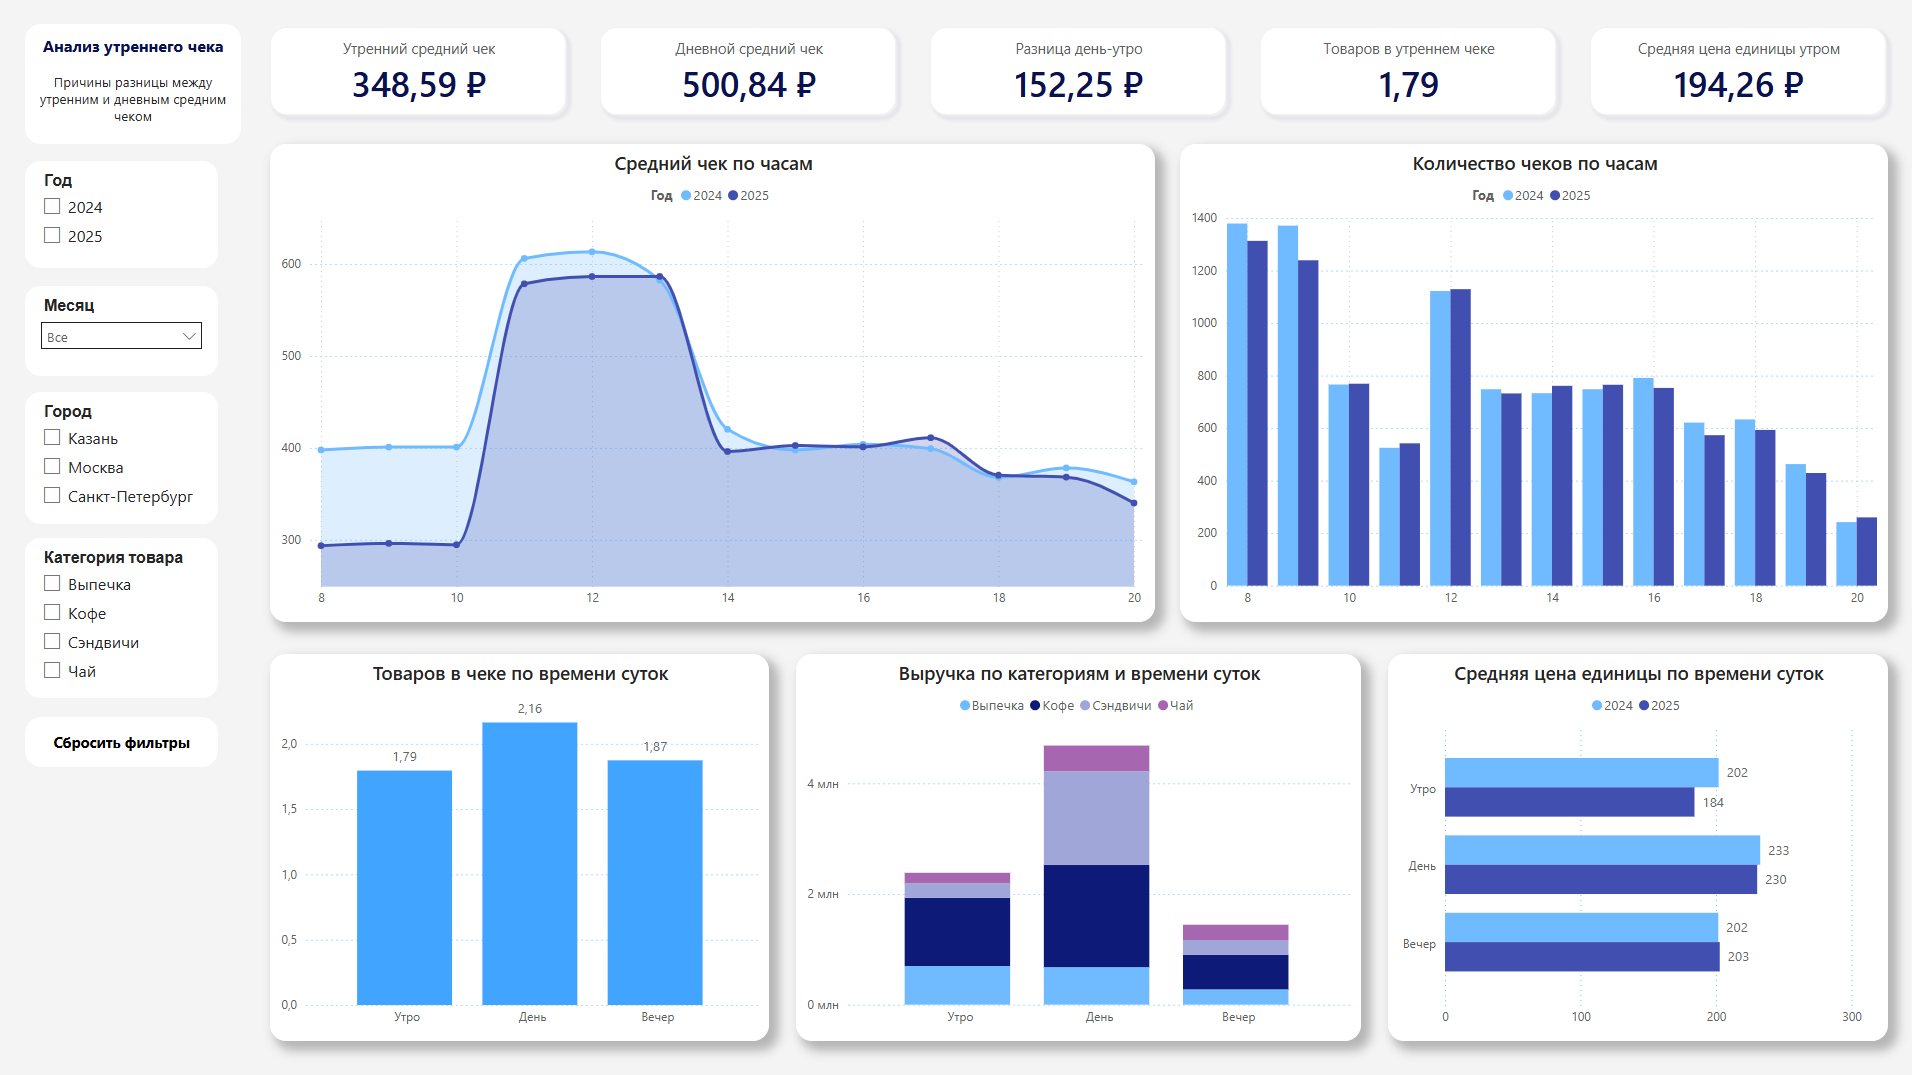

Layout of this report page (visuals, bound fields, positions):
{"tool":"powerbi","page":{"name":"Анализ утреннего чека","canvas":[1920,1080],"ordinal":1},"visuals":[{"type":"cardVisual","fields":{"Data":["coffee_sales.Утренний средний чек KPI","coffee_sales.Дневной средний чек KPI","coffee_sales.Разница день-утро KPI","coffee_sales.Товаров в утреннем чеке","coffee_sales.Средняя цена единицы утром KPI"]},"box":[243,0,1677,146],"z":0},{"type":"lineChart","title":"Средний чек по часам","fields":{"Category":["coffee_sales.Час"],"Series":["coffee_sales.Год"],"Y":["coffee_sales.Средний чек"]},"box":[272.2,145.6,884.4,478.9],"z":1000},{"type":"clusteredColumnChart","title":"Количество чеков по часам","fields":{"Category":["coffee_sales.Час"],"Y":["coffee_sales.Количество чеков"],"Series":["coffee_sales.Год"]},"box":[1182.2,145.6,707.8,478.9],"z":2000},{"type":"columnChart","title":"Товаров в чеке по времени суток","fields":{"Category":["coffee_sales.Время суток"],"Y":["coffee_sales.Товаров в чеке"]},"box":[272.2,655.6,498.9,387.8],"z":3000},{"type":"columnChart","title":"Выручка по категориям и времени суток","fields":{"Category":["coffee_sales.Время суток"],"Y":["coffee_sales.Выручка"],"Series":["coffee_products.category"]},"box":[797.8,655.6,565.6,387.8],"z":4000},{"type":"clusteredBarChart","title":"Средняя цена единицы по времени суток","fields":{"Category":["coffee_sales.Время суток"],"Y":["coffee_sales.Средняя цена единицы"],"Series":["coffee_sales.Год"]},"box":[1390,655.6,500,387.8],"z":5000},{"type":"slicer","fields":{"Values":["coffee_sales.Год"]},"box":[26.7,163.3,193.3,106.7],"z":6000},{"type":"slicer","fields":{"Values":["coffee_sales.Месяц"]},"box":[26.7,287.8,193.3,90],"z":7000},{"type":"slicer","fields":{"Values":["coffee_shops.city"]},"box":[26.7,394.4,193.3,131.1],"z":8000},{"type":"slicer","fields":{"Values":["coffee_products.category"]},"box":[26.7,540,193.3,160],"z":9000},{"type":"actionButton","box":[26.7,718.9,193.3,50],"z":10000},{"type":"textbox","box":[26.7,25.6,216.7,120],"z":11000}]}

Visuals, with their boxes in screenshot pixels (x1, y1, x2, y2), scaled from the page's 1920x1080 canvas onto the 1912x1075 screenshot:
cardVisual - coffee_sales.Утренний средний чек KPI x coffee_sales.Дневной средний чек KPI: <bbox>242, 0, 1911, 145</bbox>
"Средний чек по часам" lineChart: <bbox>271, 145, 1152, 622</bbox>
"Количество чеков по часам" clusteredColumnChart: <bbox>1177, 145, 1882, 622</bbox>
"Товаров в чеке по времени суток" columnChart: <bbox>271, 653, 768, 1039</bbox>
"Выручка по категориям и времени суток" columnChart: <bbox>794, 653, 1358, 1039</bbox>
"Средняя цена единицы по времени суток" clusteredBarChart: <bbox>1384, 653, 1882, 1039</bbox>
slicer - coffee_sales.Год: <bbox>27, 163, 219, 269</bbox>
slicer - coffee_sales.Месяц: <bbox>27, 286, 219, 376</bbox>
slicer - coffee_shops.city: <bbox>27, 393, 219, 523</bbox>
slicer - coffee_products.category: <bbox>27, 538, 219, 697</bbox>
actionButton: <bbox>27, 716, 219, 765</bbox>
textbox: <bbox>27, 25, 242, 145</bbox>
